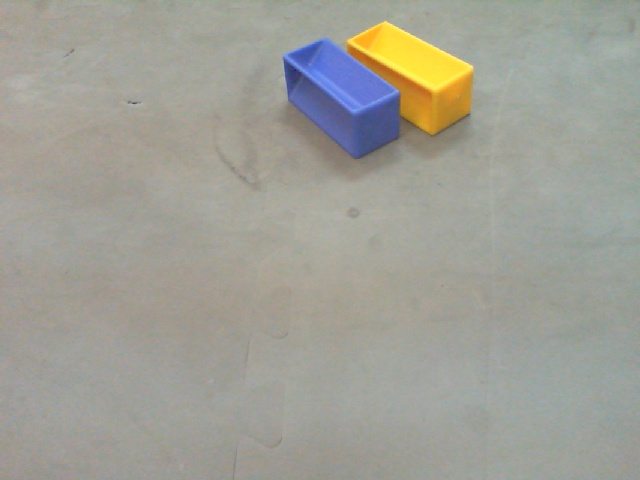BlueSample: (280, 37, 401, 163)
YellowSample: (342, 18, 476, 140)
